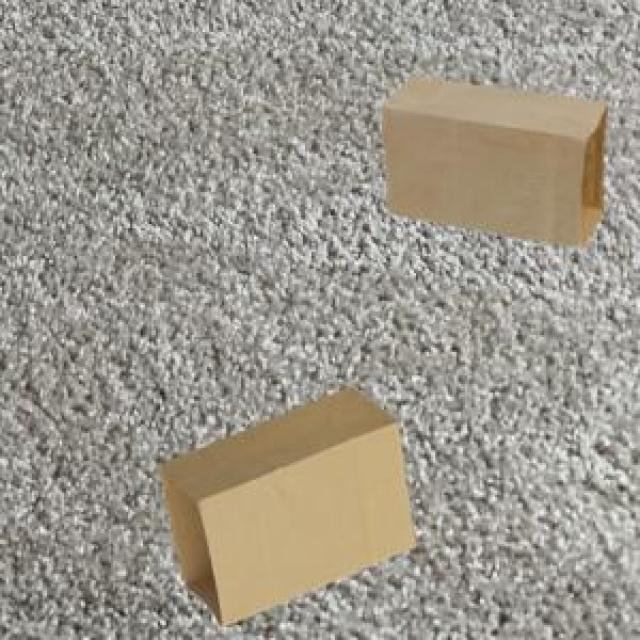Paper -Biodegradable-: (163, 385, 419, 628), (382, 74, 609, 257)
